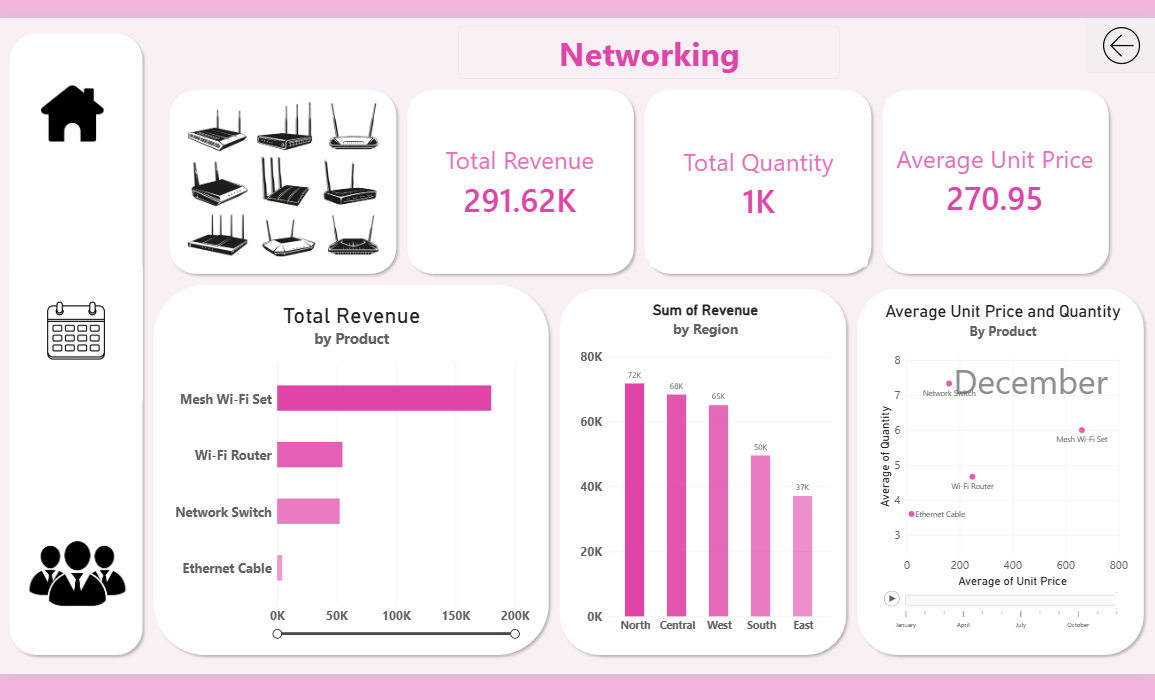

The dashboard page shown, as its layout file describes it:
{"tool":"powerbi","page":{"name":"Networking","canvas":[1920,1080],"ordinal":4},"visuals":[{"type":"shape","box":[18.5,16.5,236.7,1041.5],"z":0},{"type":"shape","box":[282,109.1,391.1,321.1],"z":1000},{"type":"shape","box":[673.1,109.1,391.1,321.1],"z":2000},{"type":"shape","box":[1064.2,109.1,391.1,321.1],"z":3000},{"type":"shape","box":[1455.2,109.1,391.1,321.1],"z":4000},{"type":"shape","box":[255.2,430.2,669,627.8],"z":5000},{"type":"shape","box":[1414.1,436.4,489.9,621.6],"z":6000},{"type":"shape","box":[924.2,436.4,489.9,621.6],"z":7000},{"type":"cardVisual","fields":{"Data":["Sum(Table1.Revenue)"]},"box":[687.5,131.7,360.2,277.9],"z":8000},{"type":"cardVisual","fields":{"Data":["Sum(Table1.Quantity)"]},"box":[1080.6,133.8,360.2,277.9],"z":9000},{"type":"cardVisual","fields":{"Data":["Avg(Table1.Unit Price)"]},"box":[1469.6,129.7,360.2,277.9],"z":10000},{"type":"barChart","title":"Total Revenue","fields":{"Category":["Table1.Product"],"Y":["Sum(Table1.Revenue)"]},"box":[281.4,453.9,617.5,580.4],"z":11000},{"type":"columnChart","fields":{"Category":["Table1.Region"],"Y":["Sum(Table1.Revenue)"]},"box":[950.9,452.8,444.6,580.4],"z":12000},{"type":"scatterChart","title":"Average  Unit Price and Quantity","fields":{"Category":["Table1.Product"],"Play":["Table1.Date.Variation.Date Hierarchy.Month"],"X":["Avg(Table1.Unit Price)"],"Y":["Avg(Table1.Quantity)"]},"box":[1440.8,452.8,444.6,580.4],"z":13000},{"type":"cardVisual","fields":{"Data":["Min(Table1.Product Category)"]},"box":[765.7,12.3,629.8,88.5],"z":14000},{"type":"image","box":[306.7,129.7,345.8,279.9],"z":15000},{"type":"actionButton","box":[1796.5,0,123.5,90.6],"z":16000},{"type":"image","box":[37,45.3,187.3,224.4],"z":17000},{"type":"image","box":[37,817.2,203.8,195.5],"z":18000},{"type":"image","box":[26.8,393.1,220.2,255.2],"z":19000}]}

Visuals, with their boxes on the page's 1920x1080 design canvas (x1, y1, x2, y2). These are canvas units, not pixel positions in the 1155x700 screenshot, which may show the page scaled, cropped or inside an application window:
shape: <bbox>18, 16, 255, 1058</bbox>
shape: <bbox>282, 109, 673, 430</bbox>
shape: <bbox>673, 109, 1064, 430</bbox>
shape: <bbox>1064, 109, 1455, 430</bbox>
shape: <bbox>1455, 109, 1846, 430</bbox>
shape: <bbox>255, 430, 924, 1058</bbox>
shape: <bbox>1414, 436, 1904, 1058</bbox>
shape: <bbox>924, 436, 1414, 1058</bbox>
cardVisual - Sum(Table1.Revenue): <bbox>688, 132, 1048, 410</bbox>
cardVisual - Sum(Table1.Quantity): <bbox>1081, 134, 1441, 412</bbox>
cardVisual - Avg(Table1.Unit Price): <bbox>1470, 130, 1830, 408</bbox>
"Total Revenue" barChart: <bbox>281, 454, 899, 1034</bbox>
columnChart - Table1.Region x Sum(Table1.Revenue): <bbox>951, 453, 1396, 1033</bbox>
"Average  Unit Price and Quantity" scatterChart: <bbox>1441, 453, 1885, 1033</bbox>
cardVisual - Min(Table1.Product Category): <bbox>766, 12, 1396, 101</bbox>
image: <bbox>307, 130, 652, 410</bbox>
actionButton: <bbox>1796, 0, 1920, 91</bbox>
image: <bbox>37, 45, 224, 270</bbox>
image: <bbox>37, 817, 241, 1013</bbox>
image: <bbox>27, 393, 247, 648</bbox>
